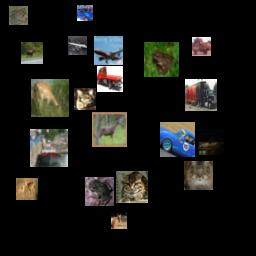airplane: (94, 36, 123, 65), (68, 36, 87, 55)
automobile: (160, 122, 195, 157), (77, 5, 93, 21)
cat: (116, 171, 148, 203), (184, 161, 213, 190), (74, 88, 96, 110)
deer: (31, 79, 69, 117), (92, 112, 127, 147), (16, 178, 38, 200), (21, 42, 43, 64), (111, 213, 127, 229)
frog: (144, 42, 179, 77), (85, 177, 114, 206), (9, 6, 28, 25)
ship: (30, 129, 68, 167), (198, 129, 224, 155)
truck: (185, 79, 217, 111), (97, 66, 123, 92), (192, 37, 211, 56)
